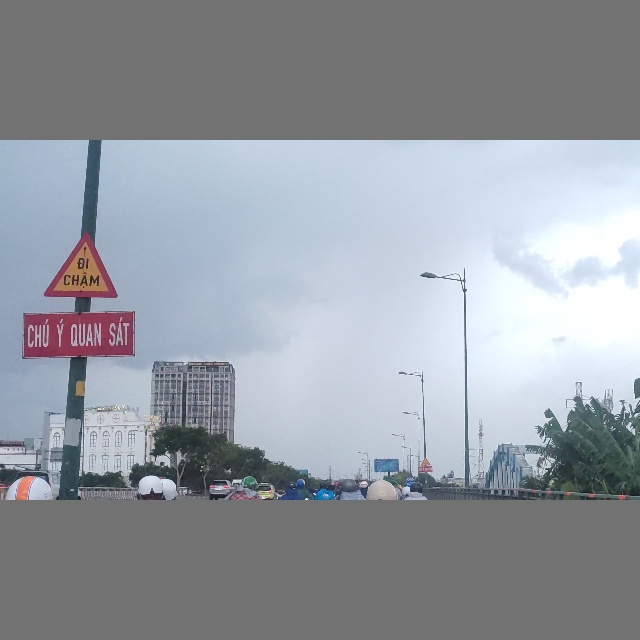W.245a: (42, 230, 119, 299)
